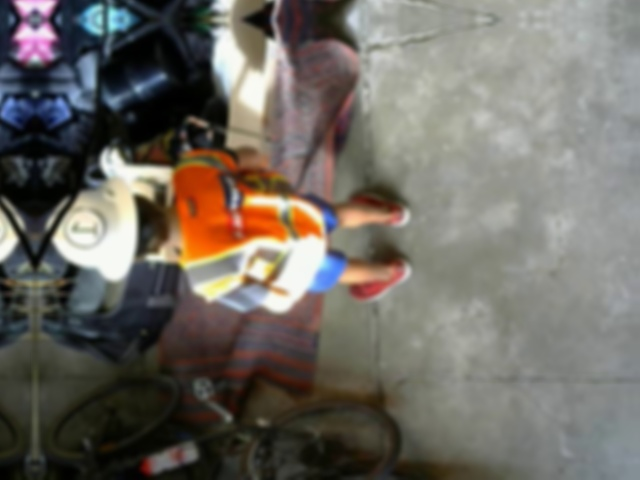one: (66, 208, 102, 246)
